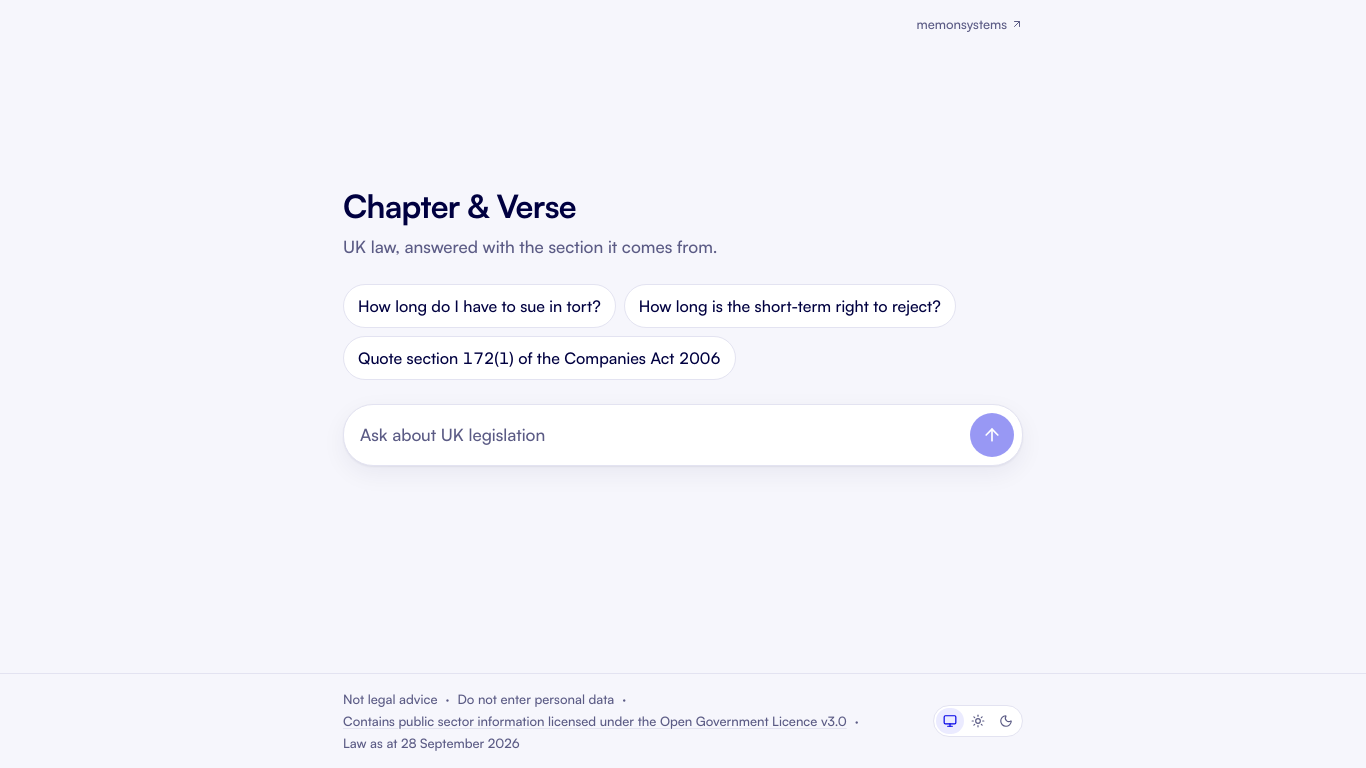
Test: Choice, Change, Retry, and Conversation State (S1-S7) › sends selected_coordinate when clicking a refusal suggestion and transitions from No such instrument to No such provision
This screenshot has width=1366, height=768.
Step 1. Type "Under Section 14B of the UK Consumer Rights Act 2015, what is the statutory cooling-off period for an in-store retail purchase of non-defective goods, and how does a consumer exercise it?" into the text box with placeholder "Ask about UK legislation" → (661, 435), box x1=360 y1=413 x2=962 y2=457
Then press Enter
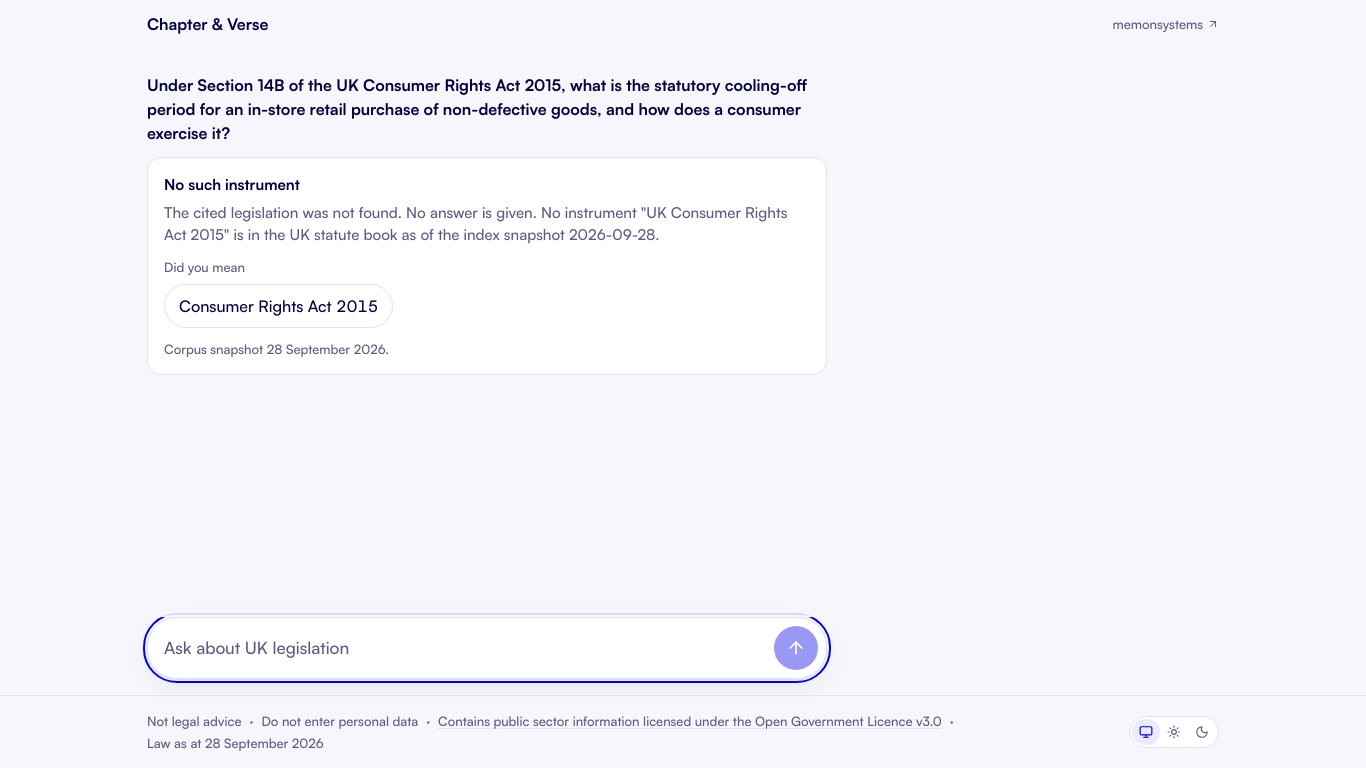
Now the heading "No such instrument" is shown, box x1=164 y1=175 x2=300 y2=194
Step 2. Click the button "Consumer Rights Act 2015" → (279, 306), box x1=164 y1=284 x2=393 y2=328
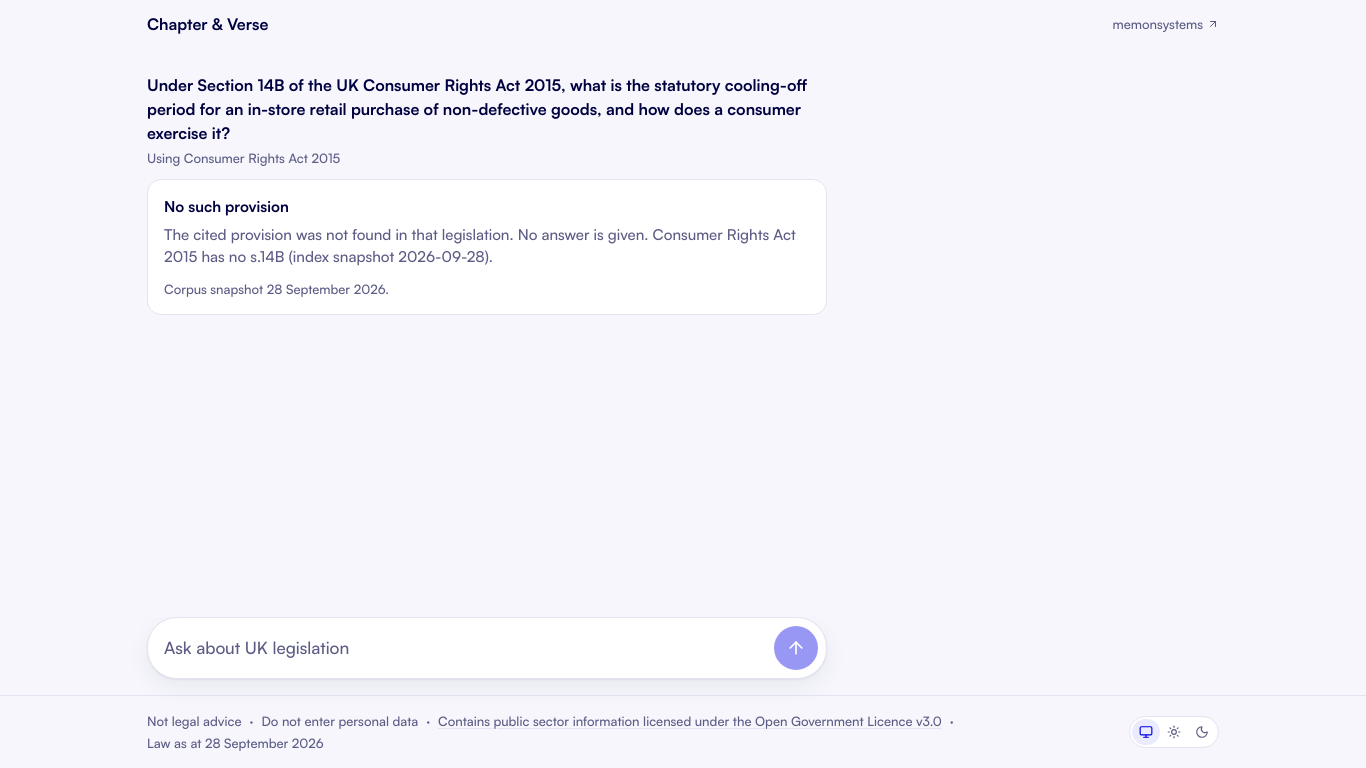
Now the heading "No such provision" is shown, box x1=164 y1=197 x2=289 y2=216
Now the text "The cited provision was not found in that legislation. No answer is given. Consumer Rights Act 2015 has no s.14B (index " is shown, box x1=164 y1=225 x2=796 y2=266
